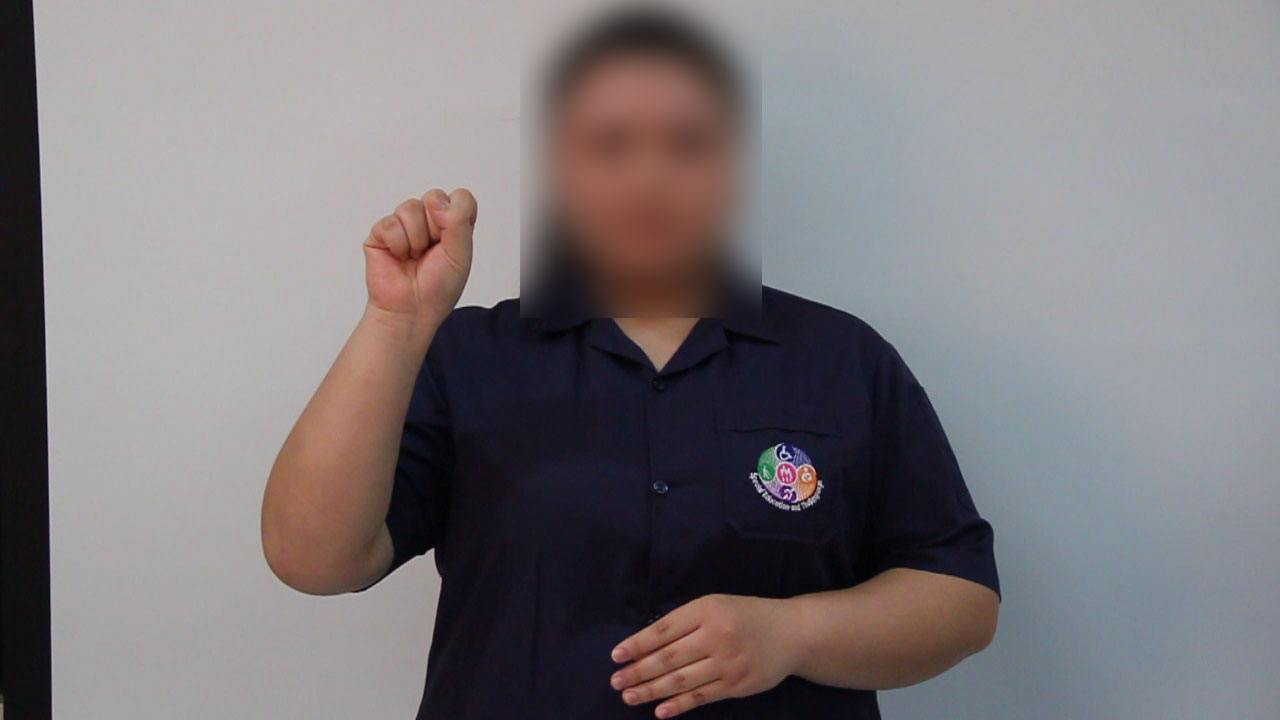sor: (350, 174, 495, 322)
